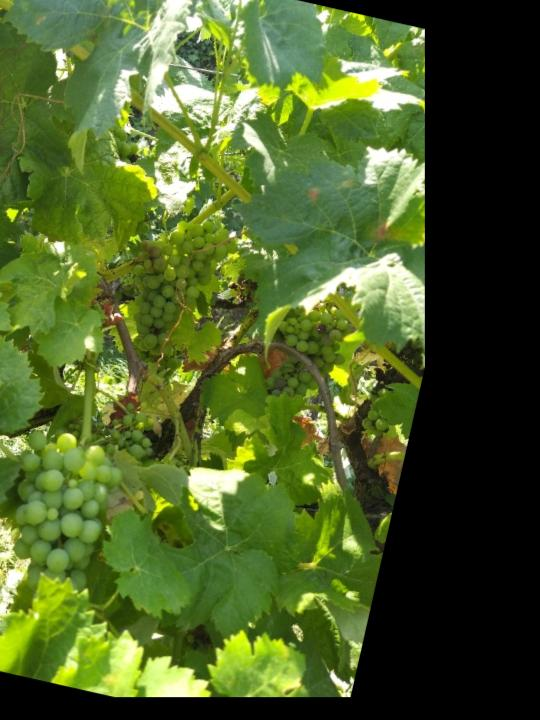grape: (0, 421, 134, 606), (110, 204, 245, 380), (258, 289, 359, 420)
